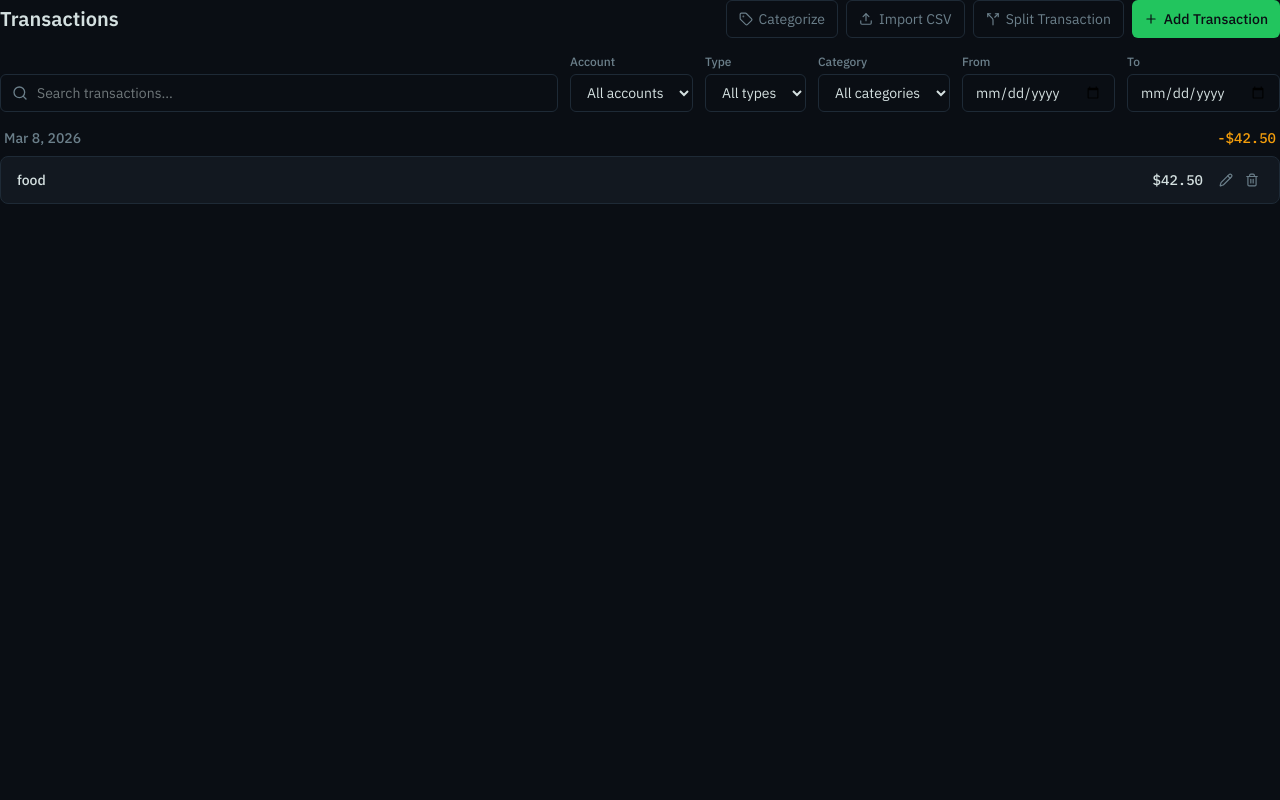
Scenario: Transactions › opens edit modal when clicking a transaction edit button
Check: the text "food" is shown, box [17,170,46,190]
Click the button named "Edit transaction".
click(1226, 180)  # box [1215,169,1237,191]
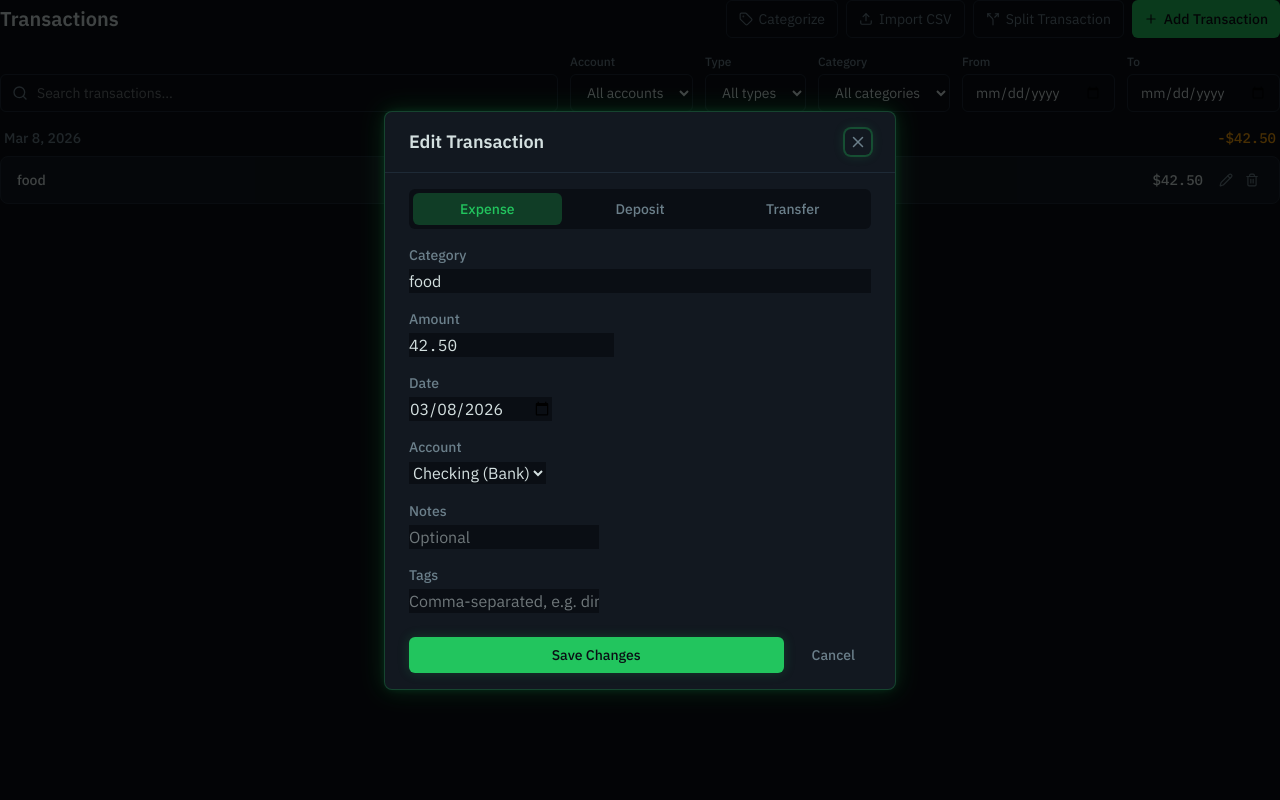
Check: the heading "Edit Transaction" is shown, box [409,128,544,156]
